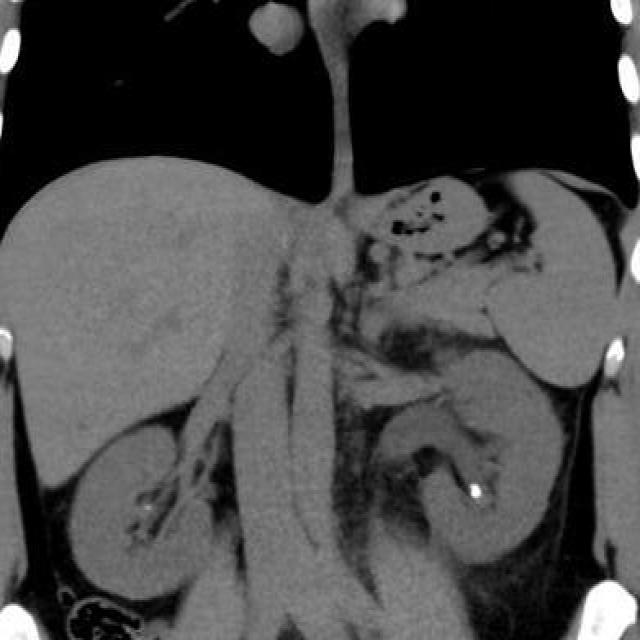Tas_Var: (469, 481, 482, 501), (139, 502, 156, 514)
